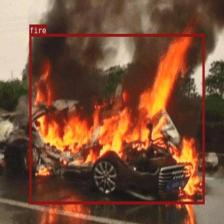fire: (30, 34, 204, 204)
